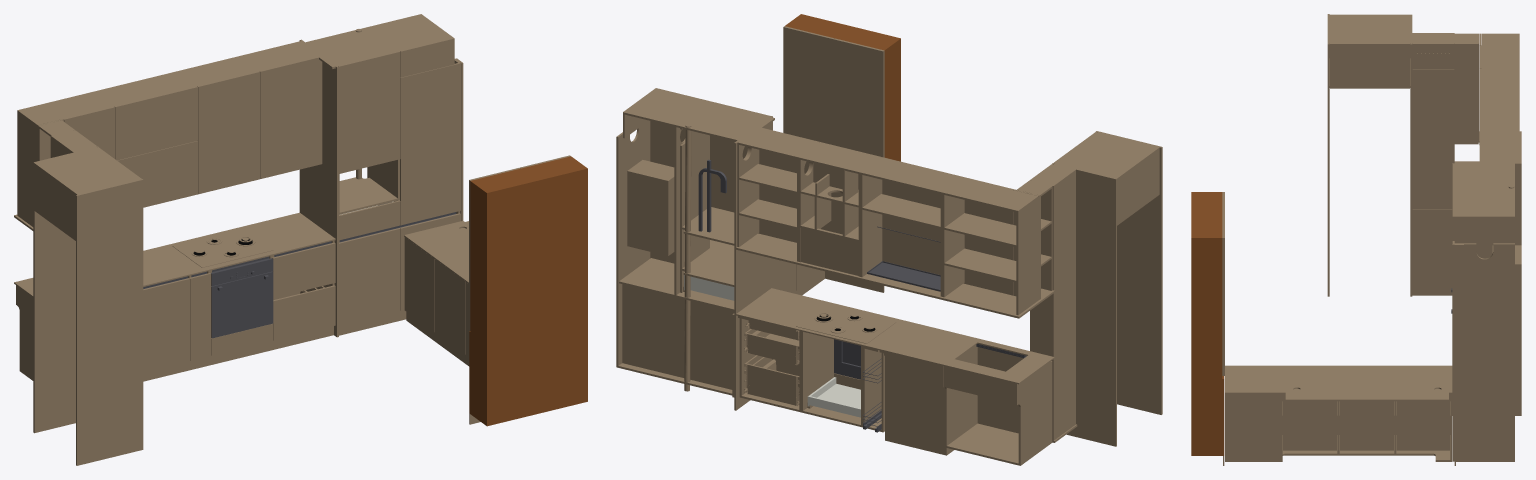
Rendered from bctr.obj.
3 views of the same model, side by side, from view 1: azimuth 30°, elevation 25°; view 2: azimuth 150°, elevation 25°; view 3: azimuth 270°, elevation 25° (orthographic). The views are drawn at different scales.
Parts seen in each view (by area): view 1: _11_18_mm, _15_18_mm, _6_18_mm, _7_18_mm, _4_18_mm, _3_18_mm, _8_18_mm, _18_mm, _1_18_mm, _4_mm, _7_12_mm, _2_18_mm (+13 smaller); view 2: _6_18_mm, _2_18_mm, _7_18_mm, _17_22_mm, _4_18_mm, _1_18_mm, _18_mm, _3_18_mm, _24_18_mm, _7_12_mm, _18_18_mm, _27_18_mm (+15 smaller); view 3: _2_18_mm, _13_18_mm, _12_12_mm, _1_18_mm, _14_18_mm, _3_18_mm, _4_18_mm, _15_18_mm, _22_18_mm, _9_18_mm, _23_18_mm, _24_18_mm (+12 smaller).
Boxes of the visible parts, left/top/right/bottom form: _11_18_mm: left=143, top=37, right=460, bottom=372; _15_18_mm: left=61, top=120, right=587, bottom=424; _6_18_mm: left=50, top=130, right=397, bottom=465; _7_18_mm: left=33, top=71, right=259, bottom=433; _4_18_mm: left=92, top=14, right=453, bottom=160; _3_18_mm: left=17, top=41, right=318, bottom=226; _8_18_mm: left=259, top=56, right=322, bottom=178; _18_mm: left=74, top=56, right=393, bottom=340; _1_18_mm: left=16, top=39, right=586, bottom=380; _4_mm: left=172, top=228, right=273, bottom=325; _7_12_mm: left=14, top=212, right=335, bottom=297; _2_18_mm: left=14, top=59, right=487, bottom=423; _6_18_mm: left=682, top=131, right=1162, bottom=424; _2_18_mm: left=616, top=38, right=1039, bottom=445; _7_18_mm: left=819, top=142, right=1116, bottom=446; _17_22_mm: left=783, top=26, right=884, bottom=157; _4_18_mm: left=623, top=89, right=964, bottom=297; _1_18_mm: left=616, top=15, right=1051, bottom=465; _18_mm: left=684, top=143, right=1053, bottom=417; _3_18_mm: left=739, top=128, right=1038, bottom=315; _24_18_mm: left=622, top=254, right=1051, bottom=389; _7_12_mm: left=736, top=288, right=1054, bottom=384; _18_18_mm: left=739, top=164, right=1016, bottom=282; _27_18_mm: left=861, top=170, right=1074, bottom=439; _2_18_mm: left=1193, top=131, right=1521, bottom=459; _13_18_mm: left=1191, top=69, right=1454, bottom=455; _12_12_mm: left=1225, top=365, right=1452, bottom=400; _1_18_mm: left=1193, top=163, right=1521, bottom=461; _14_18_mm: left=1193, top=43, right=1409, bottom=236; _3_18_mm: left=1479, top=33, right=1519, bottom=161; _4_18_mm: left=1454, top=67, right=1519, bottom=218; _15_18_mm: left=1191, top=43, right=1478, bottom=453; _22_18_mm: left=1227, top=395, right=1280, bottom=459; _9_18_mm: left=1329, top=14, right=1481, bottom=460; _23_18_mm: left=1396, top=401, right=1449, bottom=450; _24_18_mm: left=1340, top=401, right=1393, bottom=450.
Size of the model in its own units: 4520 by 2499 by 2956.
